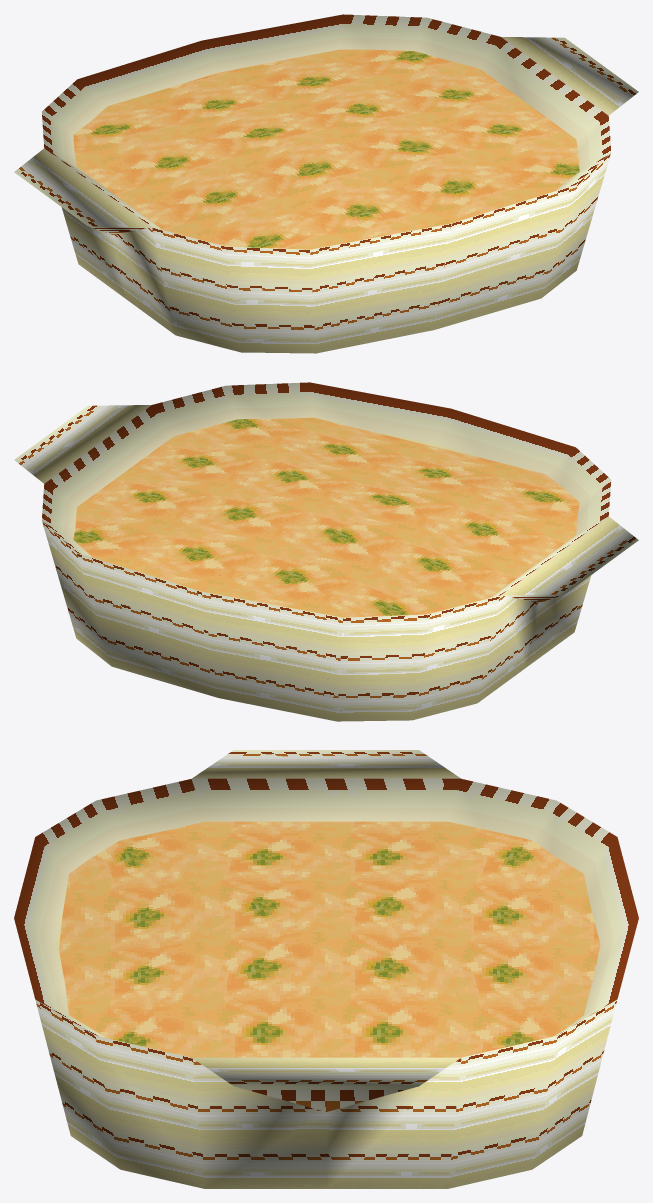
Rendered from soup_w.gltf.
3 views of the same model, one above another, from view 1: azimuth 30°, elevation 25°; view 2: azimuth 150°, elevation 25°; view 3: azimuth 270°, elevation 25° (orthographic). The views are drawn at different scales.
Parts seen in each view (by area): view 1: soup_w; view 2: soup_w; view 3: soup_w.
Boxes of the visible parts, x1,y1,x2,y2 form: soup_w: [14, 14, 638, 353]; soup_w: [14, 382, 638, 721]; soup_w: [14, 750, 638, 1188].
Bounding box in the file's own units: 0.7324 × 0.1514 × 0.5752.
2 materials, 2 textured.
